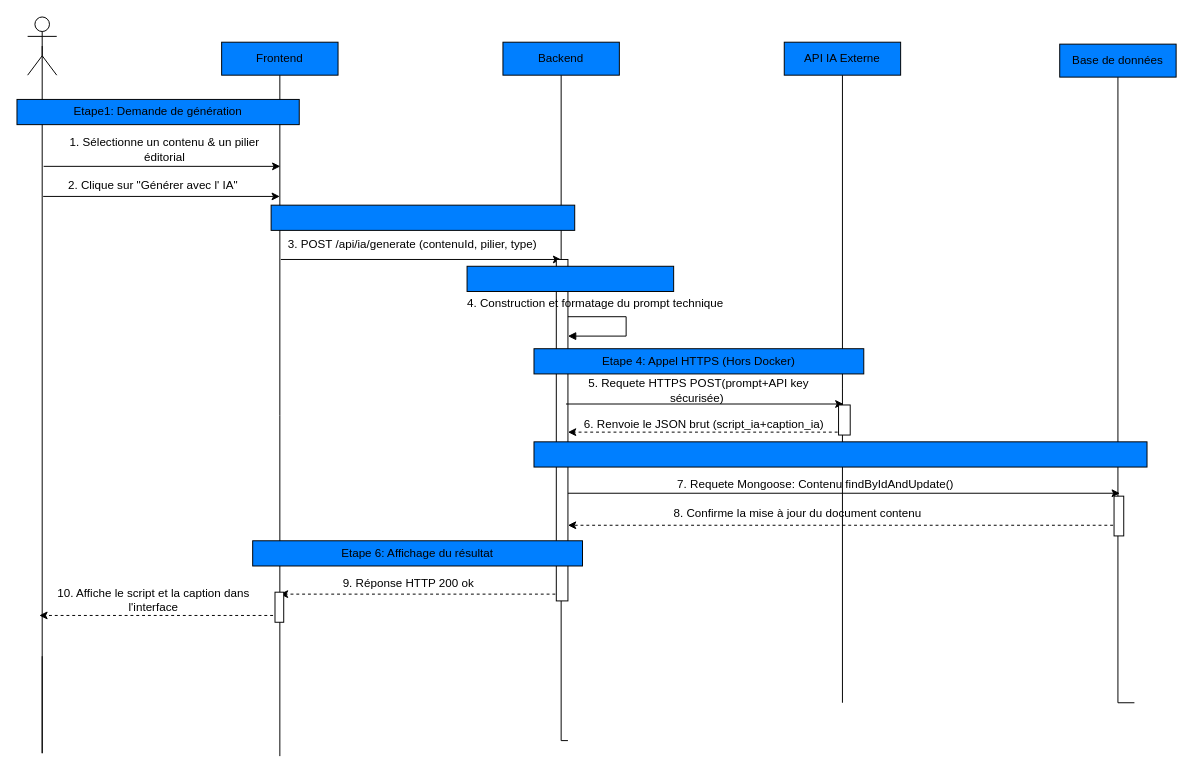
Image size: 1193x774. Some labels were removed from this diagram. Each missing label, with the centre of its shape:
"Etape 2: Transmission au Backend" goes at point (422, 217).
"Etape 3: Préparation du prompt" goes at point (570, 278).
"Etape 5: Persistance NoSQL directe" goes at point (840, 454).
"Utilisateur" goes at point (42, 45).
